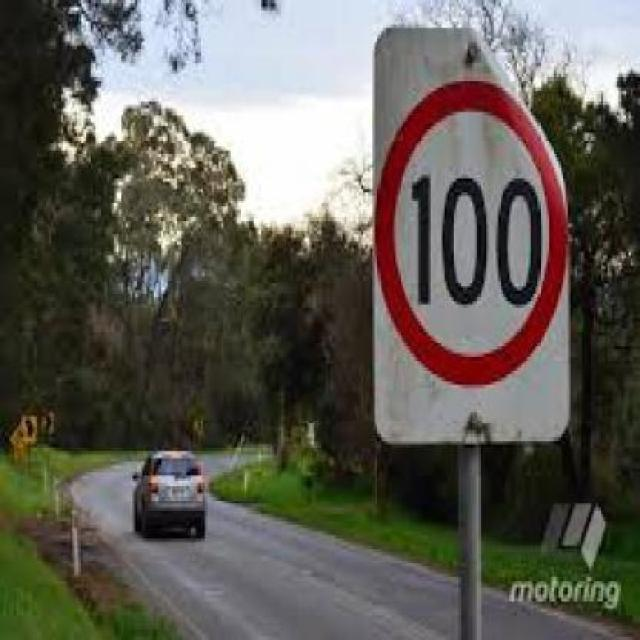forb_speed_over_100: (380, 82, 562, 384)
